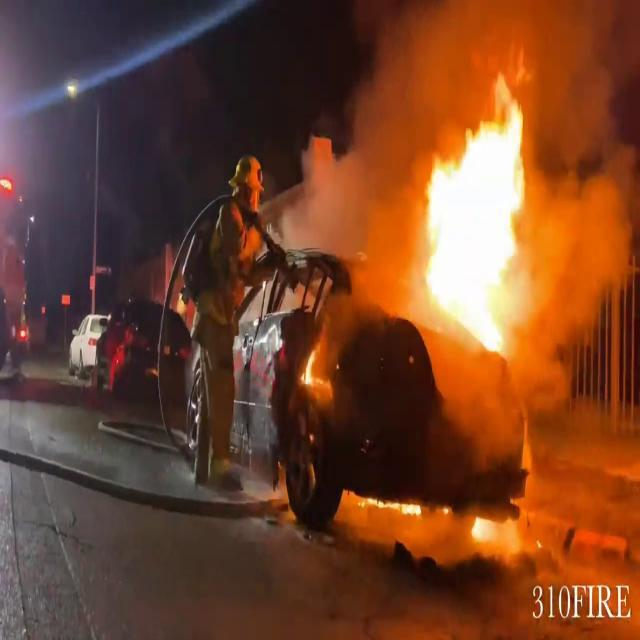Fire: (404, 83, 572, 360)
Smoke: (290, 1, 454, 281)
